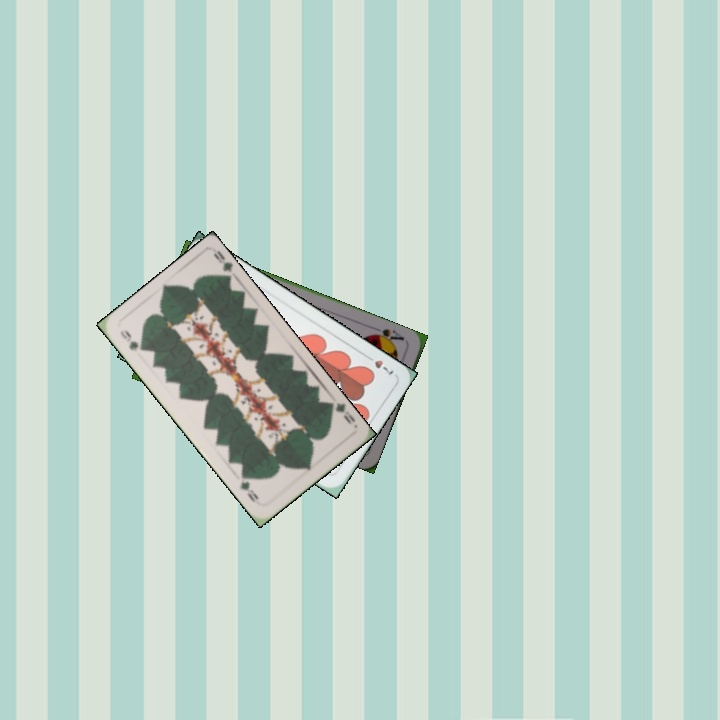G9: (324, 398, 358, 427), (116, 325, 148, 355)
H7: (361, 350, 396, 379)
SA: (367, 323, 407, 347)
